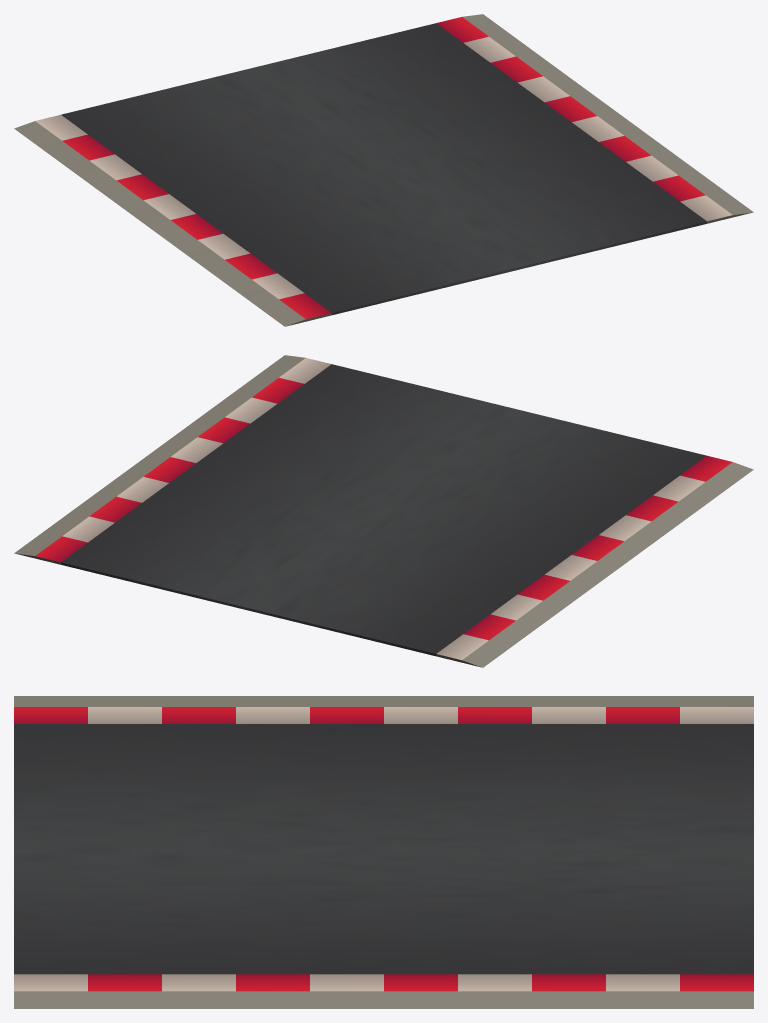
The model's file is Straight_1E.fbx.
3 renders of one model, top to bottom at view 1: azimuth 30°, elevation 25°; view 2: azimuth 150°, elevation 25°; view 3: azimuth 270°, elevation 25°, orthographic. The views are drawn at different scales.
Parts seen in each view (by area): view 1: Straight_1E; view 2: Straight_1E; view 3: Straight_1E.
Boxes of the visible parts, x1,y1,x2,y2 form: Straight_1E: (14,14,753,326); Straight_1E: (14,355,753,667); Straight_1E: (14,696,753,1008).
Size of the model in its own units: 2000 by 10 by 2000.
